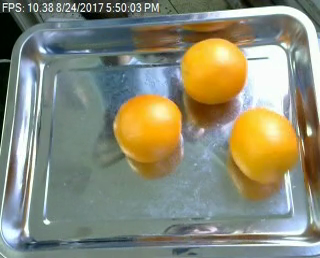Orange: (231, 107, 299, 182), (112, 94, 181, 163), (182, 37, 248, 105)
